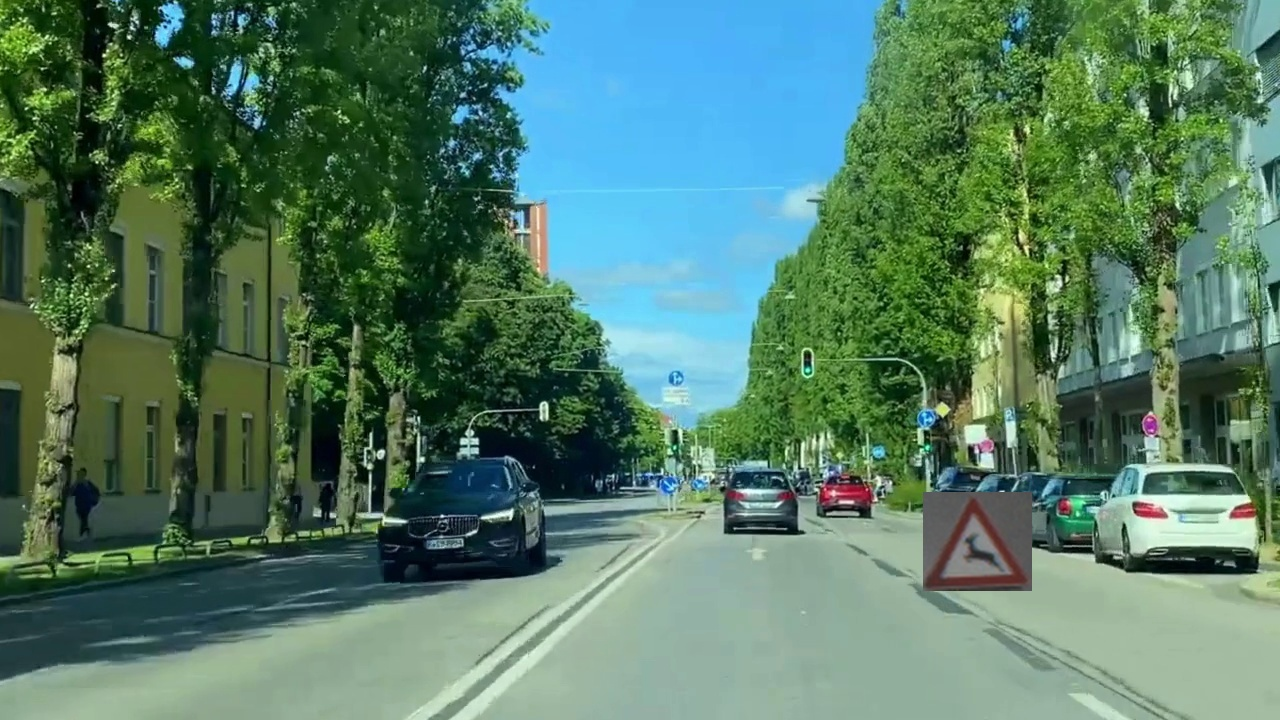Wild animals: (923, 492, 1032, 591)
